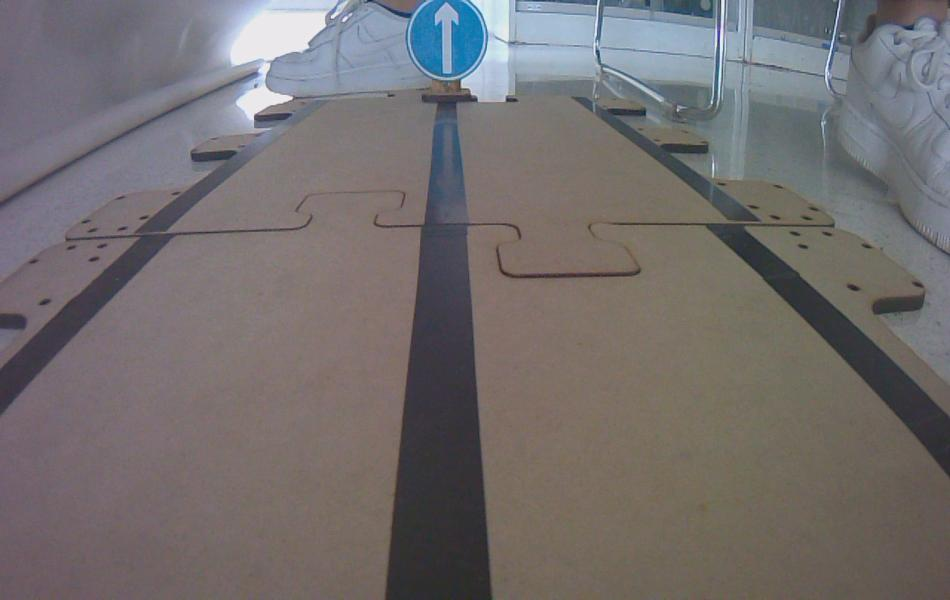straight: (402, 2, 489, 83)
